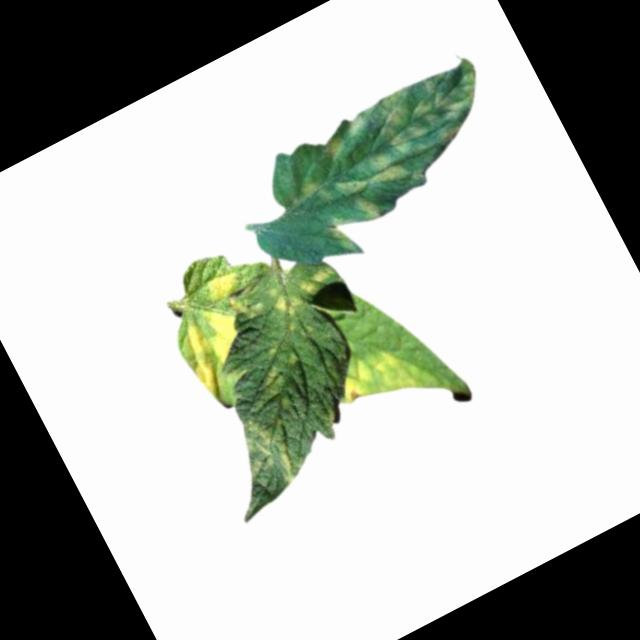Leaf_Mold: (276, 54, 514, 242), (152, 266, 281, 400), (326, 331, 442, 433), (228, 409, 309, 500), (267, 261, 341, 320)
